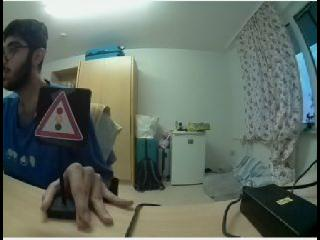traffic_light: (37, 87, 87, 143)
